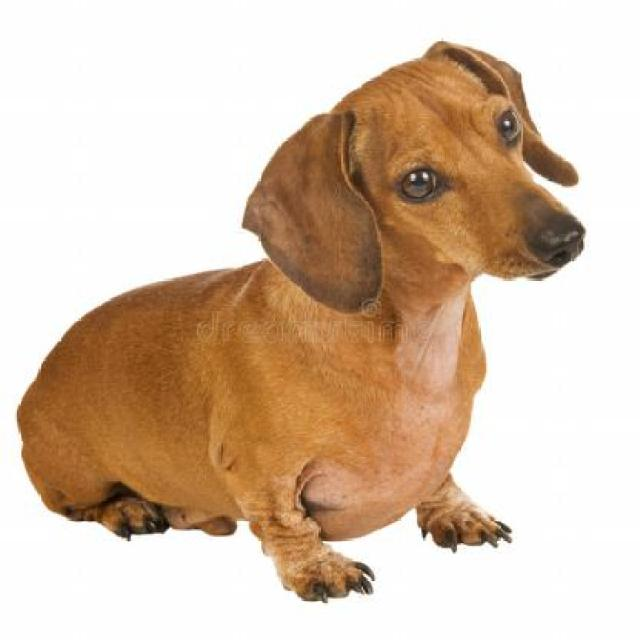Dog: (14, 39, 588, 603)
